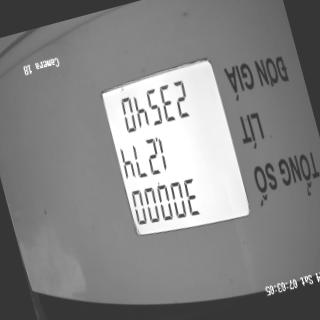screen: (92, 51, 258, 254)
